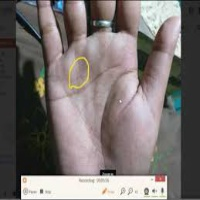ring: (61, 1, 90, 44)
